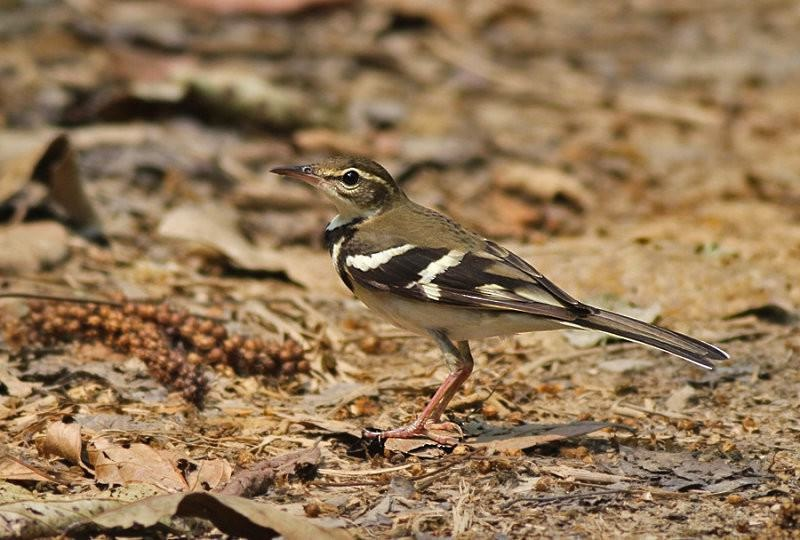wagtail: (278, 136, 654, 421)
